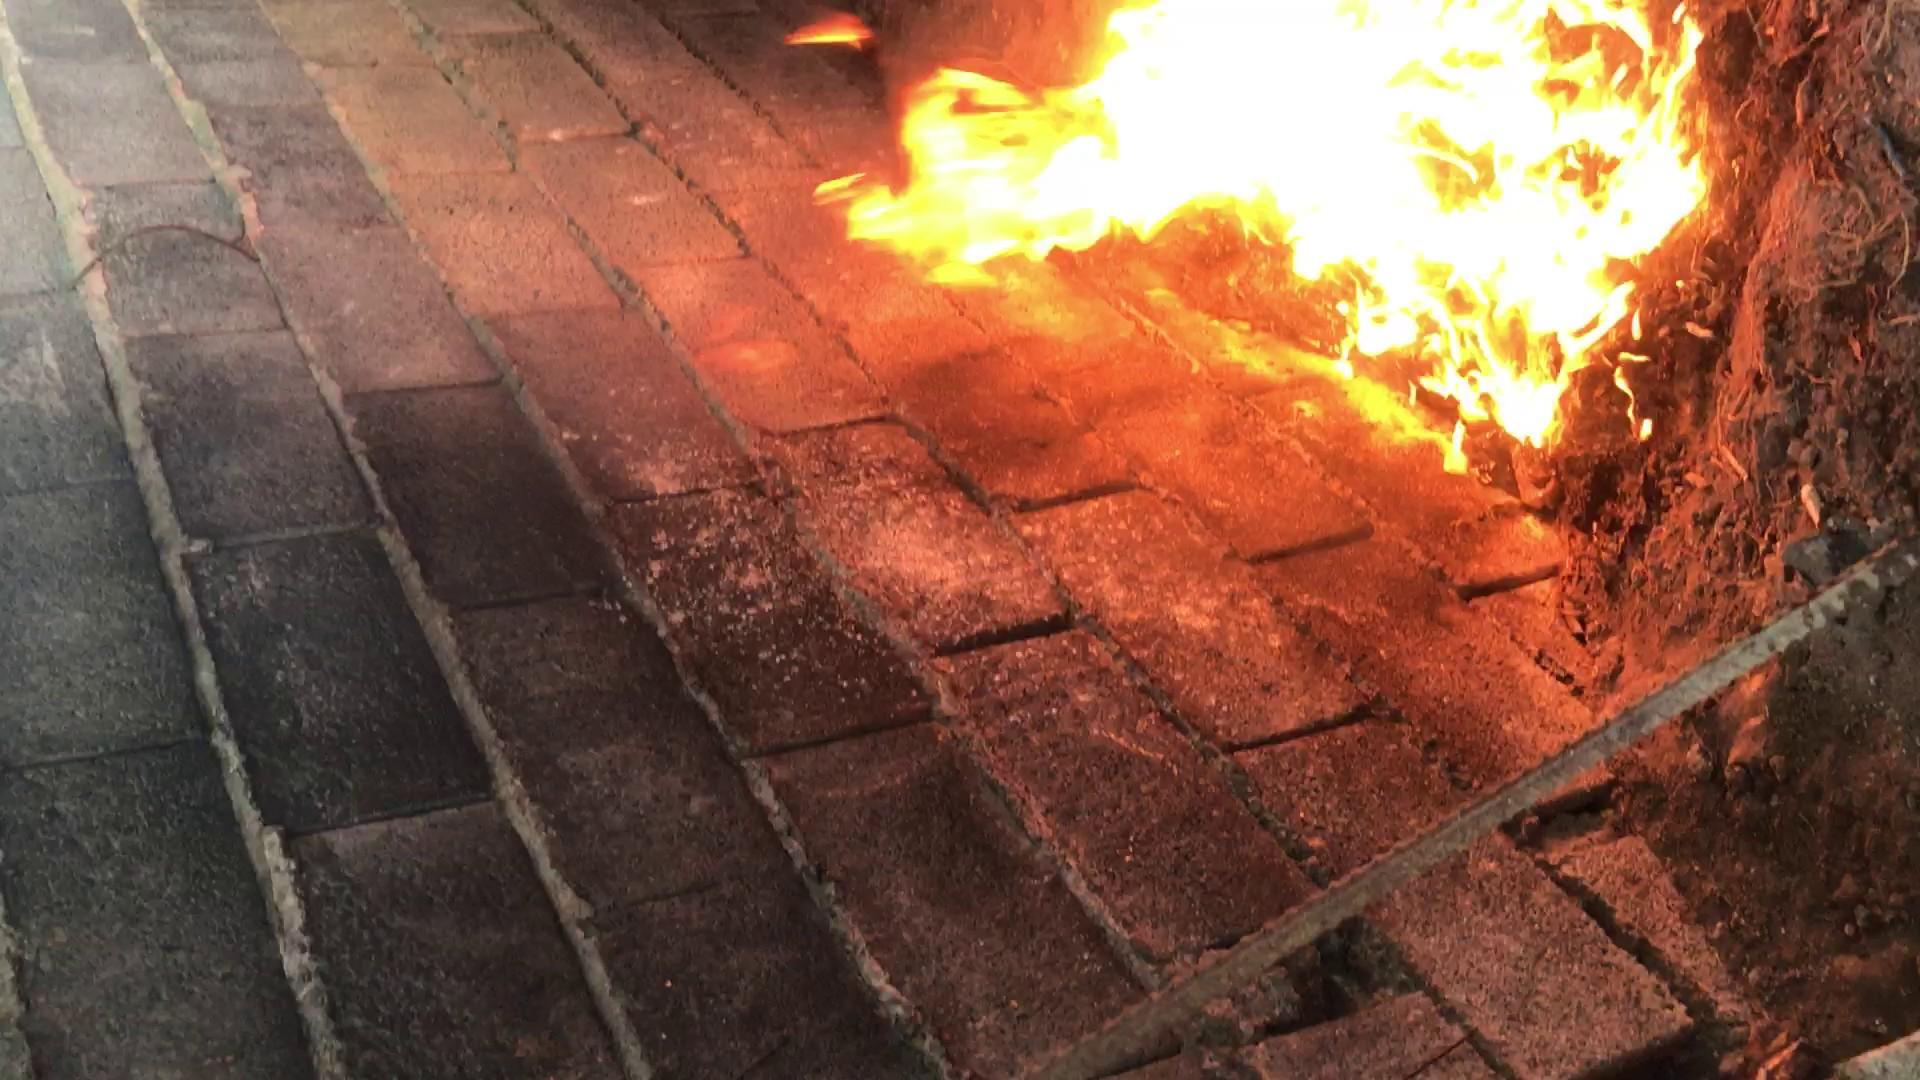fire: (1269, 514, 1920, 915)
